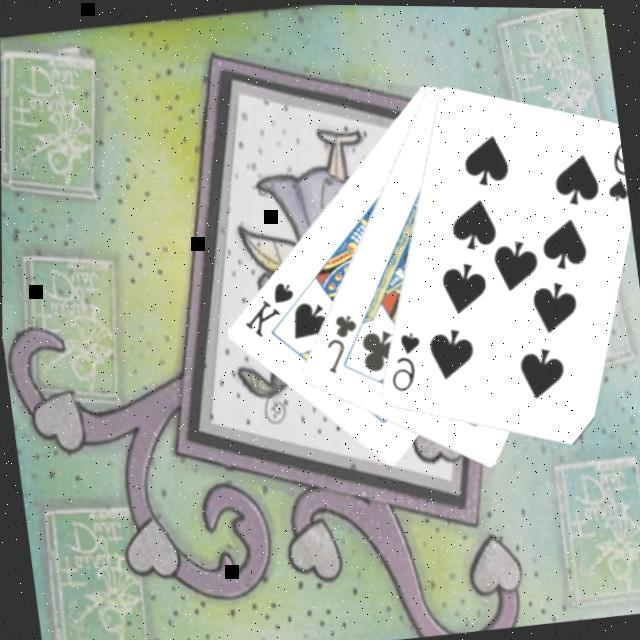9S: (379, 328, 427, 398), (596, 138, 628, 206)
JC: (316, 309, 364, 379)
KS: (234, 277, 300, 344)
